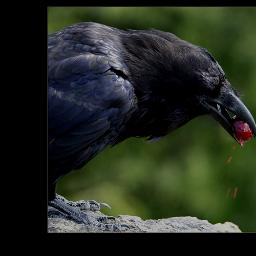Crow: (48, 21, 256, 233)
